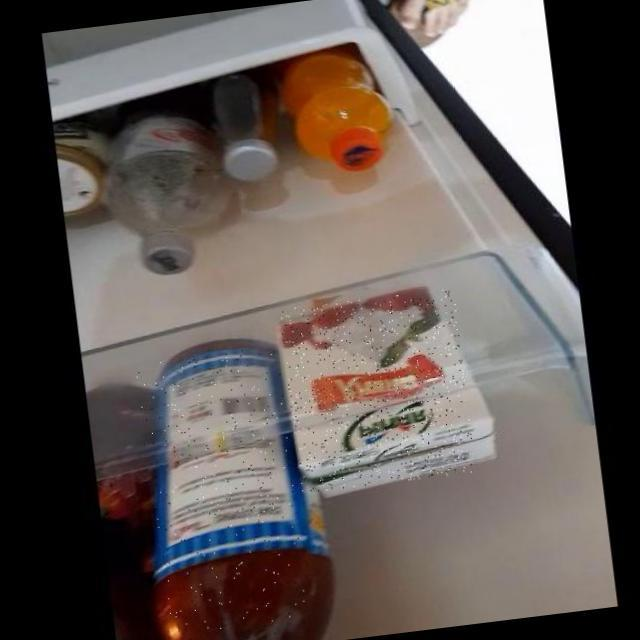cream cheese: (278, 287, 475, 492)
sauce: (132, 344, 313, 640)
